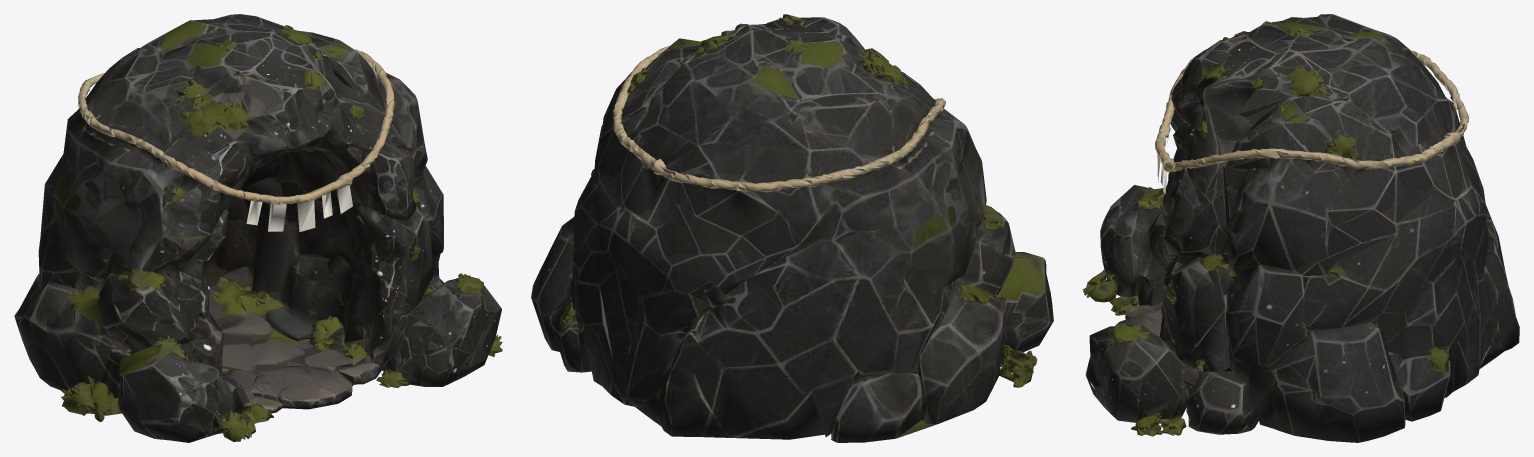
File: cave_arch.glb
3 views of the same model, side by side, from view 1: azimuth 30°, elevation 25°; view 2: azimuth 150°, elevation 25°; view 3: azimuth 270°, elevation 25° (orthographic). The views are drawn at different scales.
Visible parts, largest first — view 1: cave_arch; view 2: cave_arch; view 3: cave_arch.
Boxes of the visible parts, <box> form: cave_arch: <box>14,14,502,442</box>; cave_arch: <box>531,14,1053,442</box>; cave_arch: <box>1082,14,1519,442</box>.
Size of the model in its own units: 4.37 by 3 by 3.87.
1 material, 1 textured.
